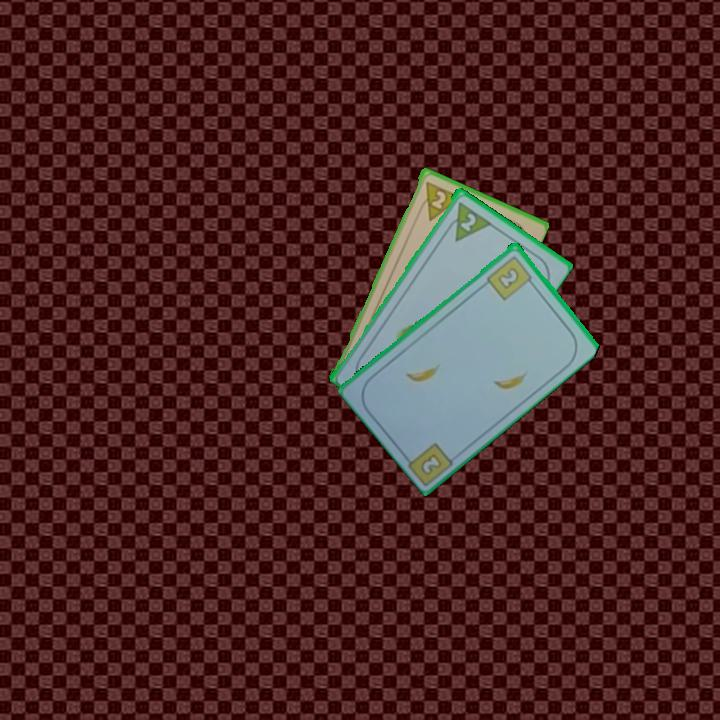2b: (483, 252, 537, 303), (419, 452, 443, 476)
2p: (441, 197, 493, 244), (415, 177, 463, 223)
